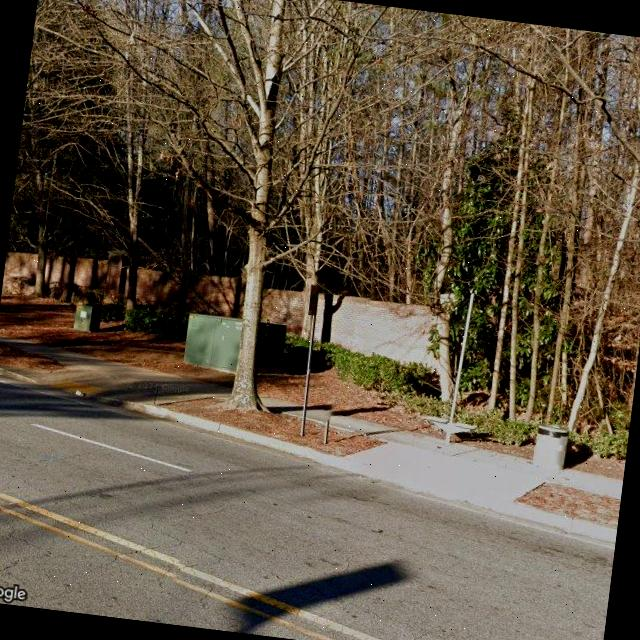seating: (418, 414, 477, 437)
trash_can: (530, 422, 569, 479)
